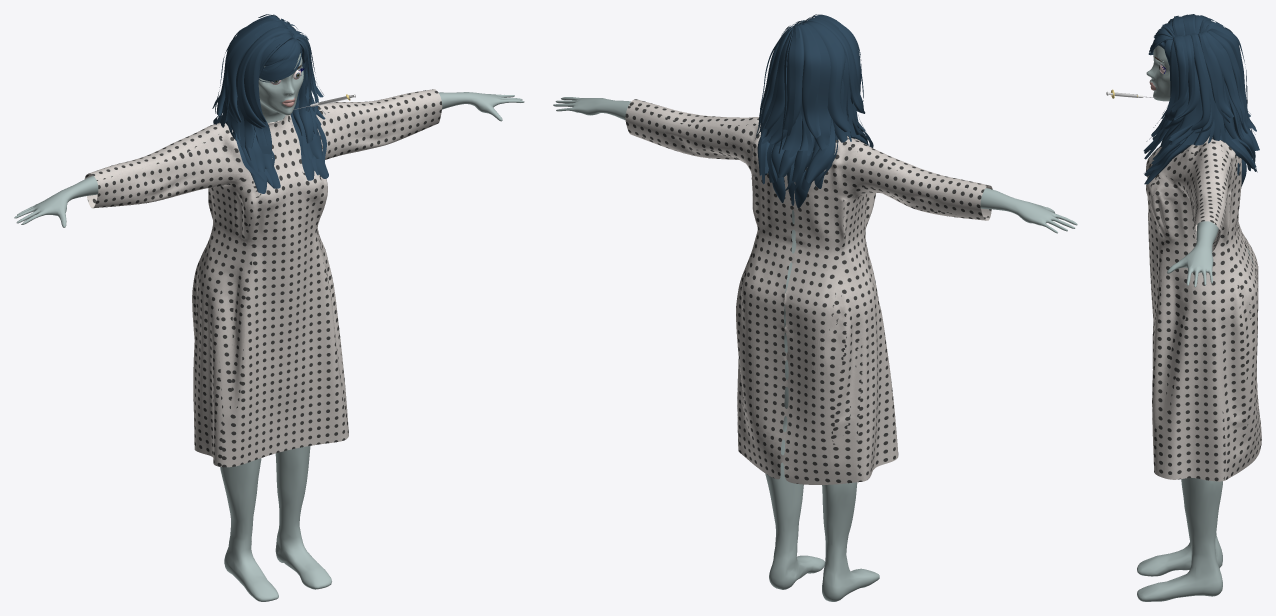
The model's file is compressed_1743454710262_beauty2.glb.
3 renders of one model, left to right at view 1: azimuth 30°, elevation 25°; view 2: azimuth 150°, elevation 25°; view 3: azimuth 270°, elevation 25°, orthographic. The views are drawn at different scales.
Parts seen in each view (by area): view 1: Hospital Gown.001, Body.001, Nini_Hair.002; view 2: Hospital Gown.001, Nini_Hair.002, Body.001; view 3: Hospital Gown.001, Nini_Hair.002, Body.001.
Part boxes in pixels (left/top/right/bottom): Hospital Gown.001: left=84, top=89, right=442, bottom=467; Body.001: left=14, top=53, right=524, bottom=601; Nini_Hair.002: left=212, top=14, right=328, bottom=193; Hospital Gown.001: left=625, top=99, right=992, bottom=484; Nini_Hair.002: left=752, top=14, right=873, bottom=208; Body.001: left=553, top=97, right=1077, bottom=601; Hospital Gown.001: left=1146, top=136, right=1261, bottom=481; Nini_Hair.002: left=1143, top=14, right=1259, bottom=186; Body.001: left=1137, top=45, right=1254, bottom=601.
Bounding box in the file's own units: 4.54 × 4.77 × 1.18.
Materials: 15 (4 with a texture image).
